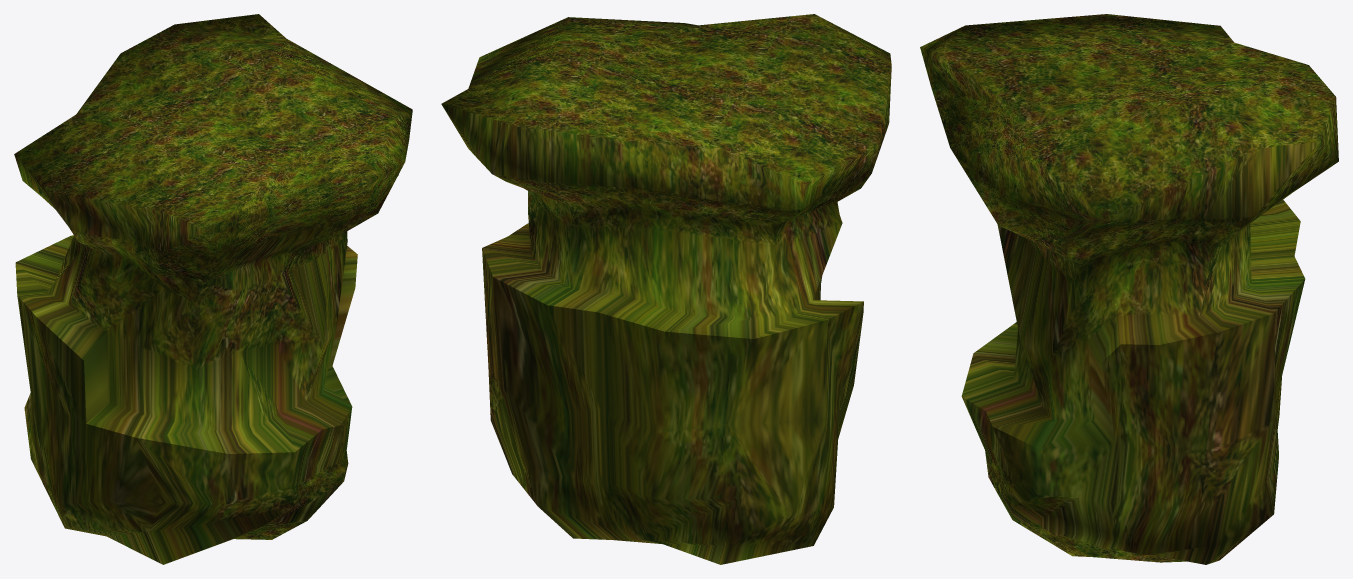
File: LVL_ROAST_MUTTON_ROCK_LEDGE01.obj
3 renders of one model, left to right at view 1: azimuth 30°, elevation 25°; view 2: azimuth 150°, elevation 25°; view 3: azimuth 270°, elevation 25°, orthographic. The views are drawn at different scales.
Visible parts, largest first — view 1: RM_Psurf90; view 2: RM_Psurf90; view 3: RM_Psurf90.
Part boxes in pixels (x1,y1,x2,y2): RM_Psurf90: [14, 14, 412, 564]; RM_Psurf90: [441, 14, 891, 564]; RM_Psurf90: [920, 14, 1338, 564].
Bounding box in the file's own units: 1011 × 1153 × 903.
